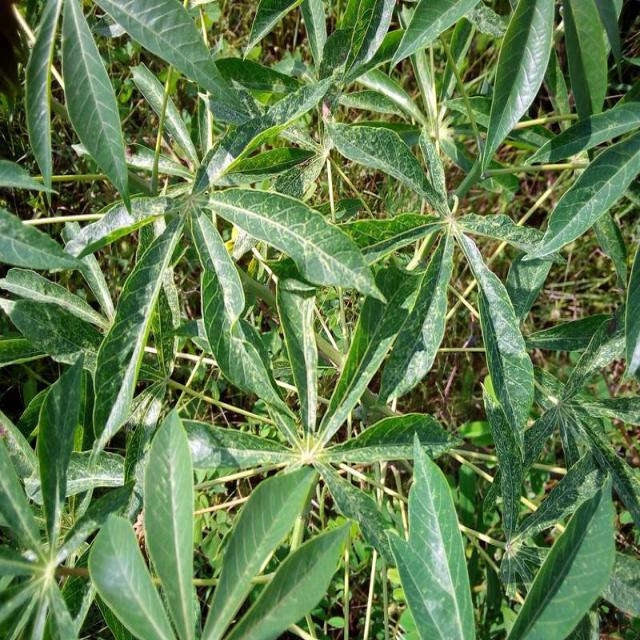cassava leaf: (2, 0, 639, 639), (386, 430, 477, 638)
